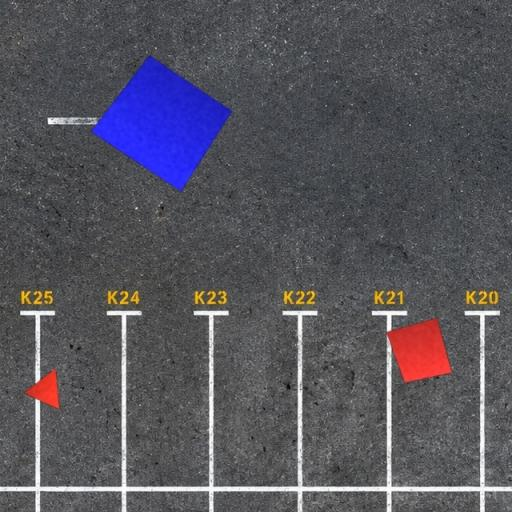BLUE_SQUARE: (90, 54, 233, 192)
RED_SQUARE: (386, 318, 452, 383)
